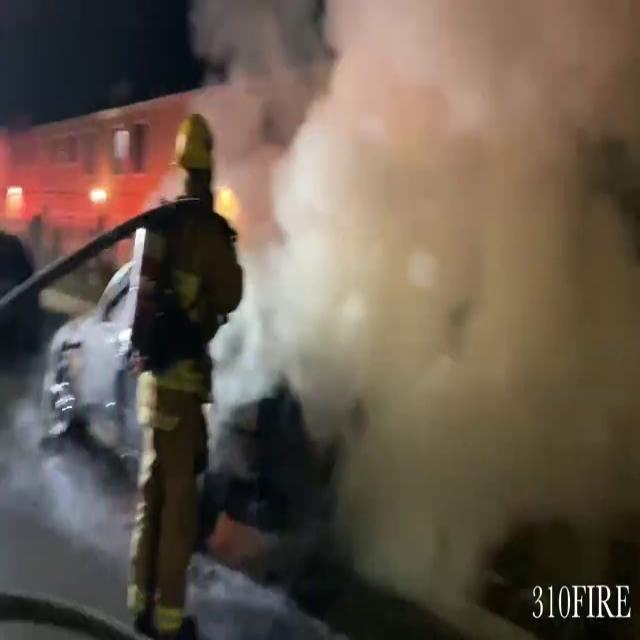Smoke: (190, 0, 640, 610)
